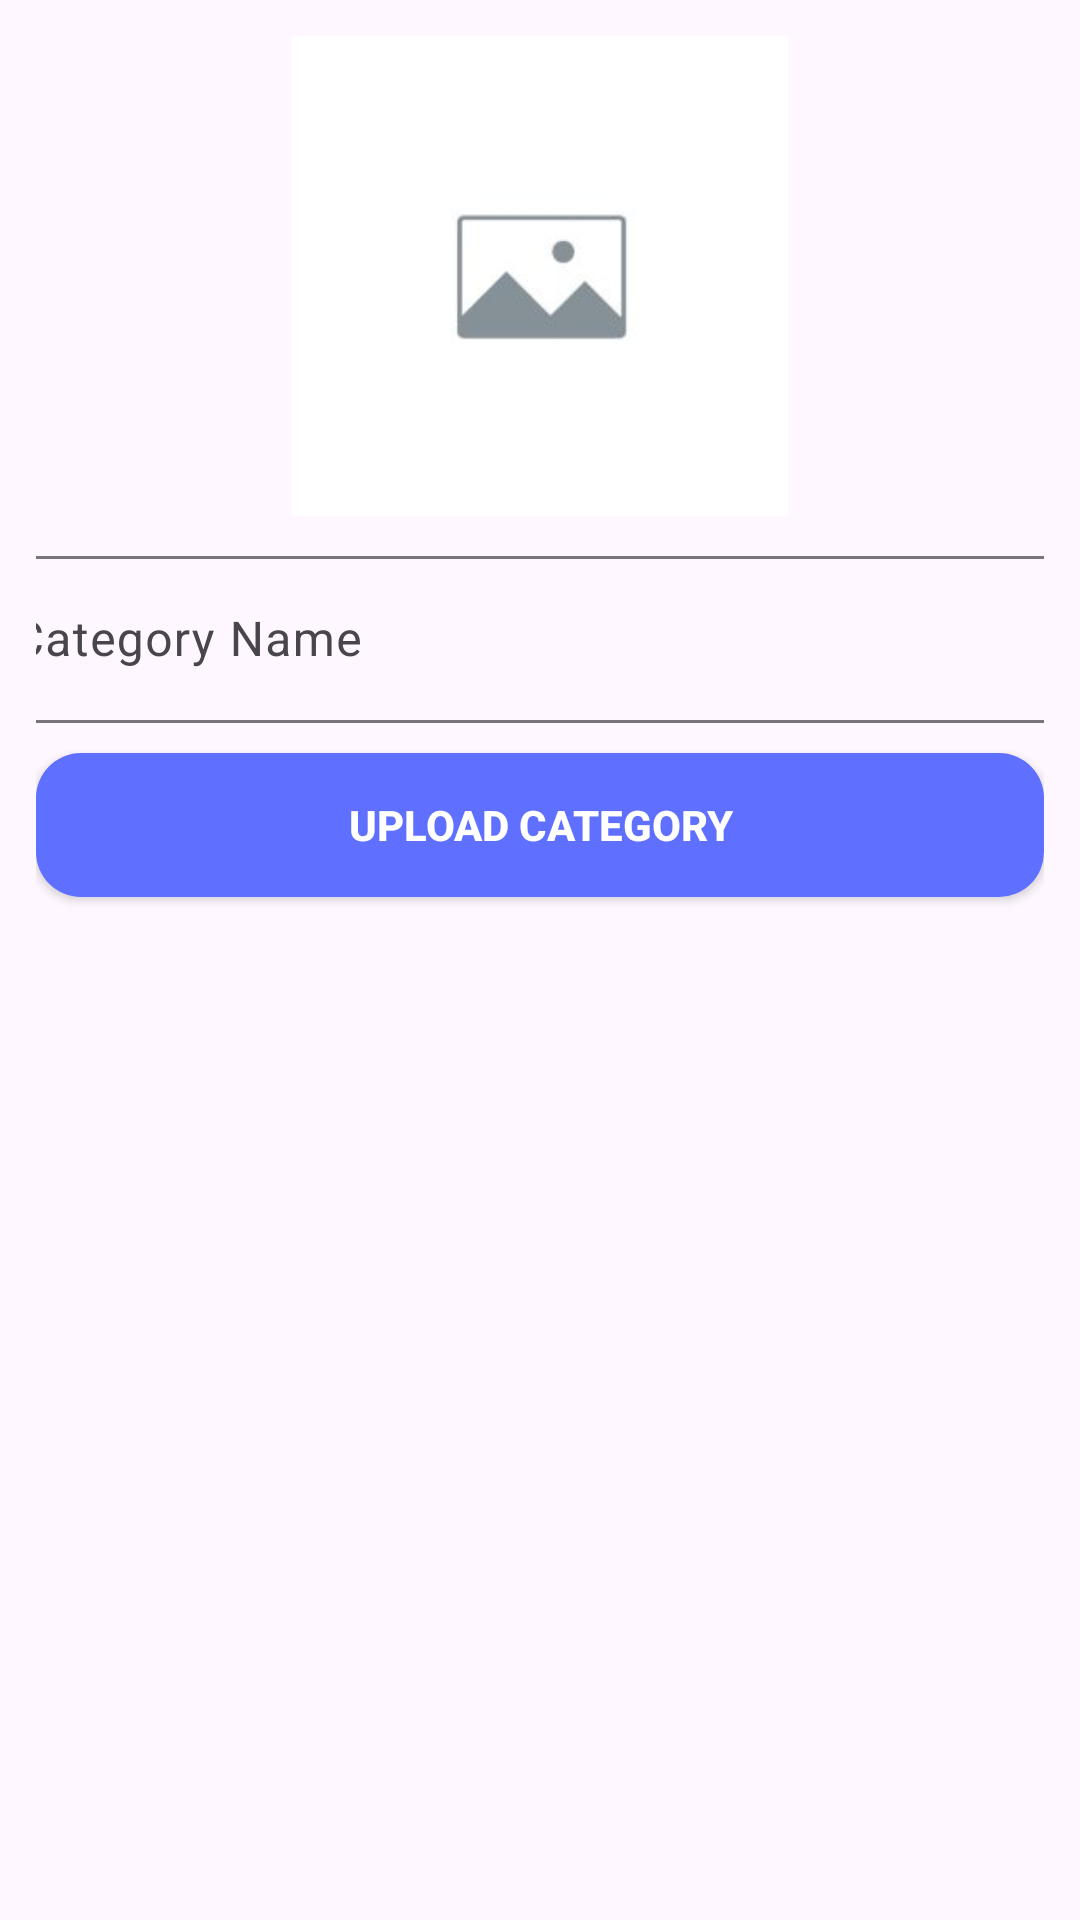

Where to tap for icons on this 1080 x 1920 app screen, as (x=x, y=y):
imagep: (x=542, y=277)
